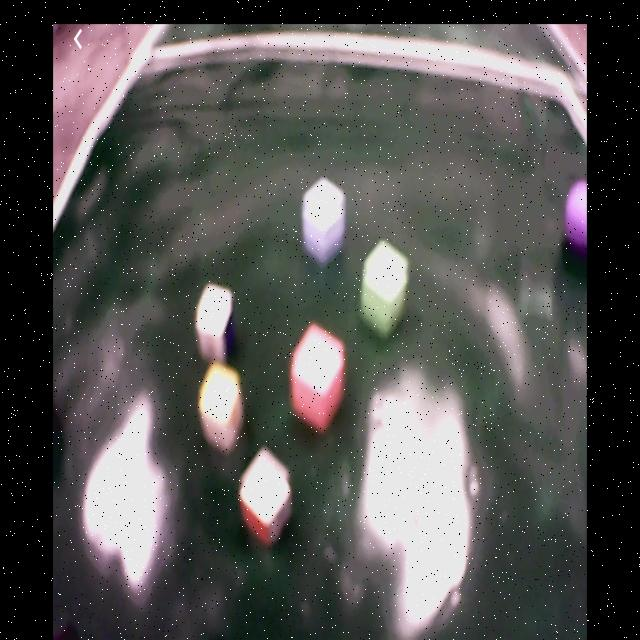ball: (566, 181, 588, 247)
